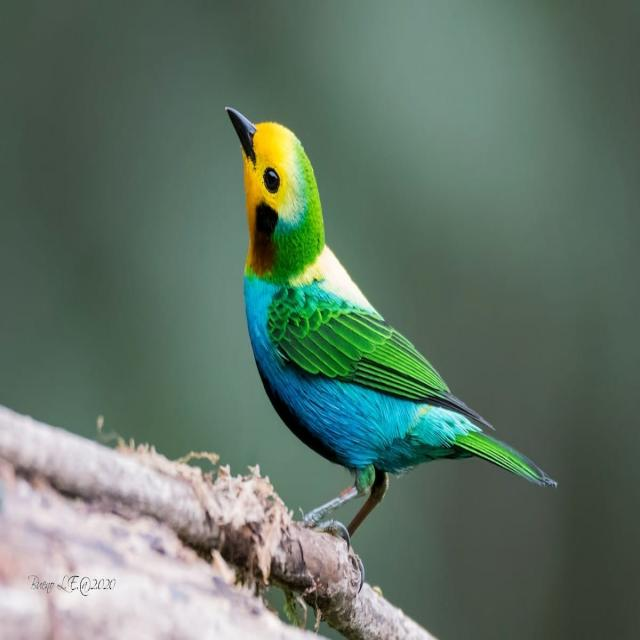Birds: (219, 85, 446, 507)
